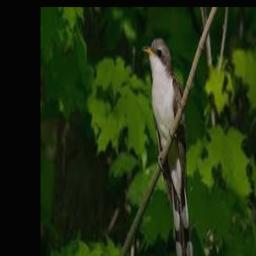Cuckoo: (143, 37, 195, 256)
